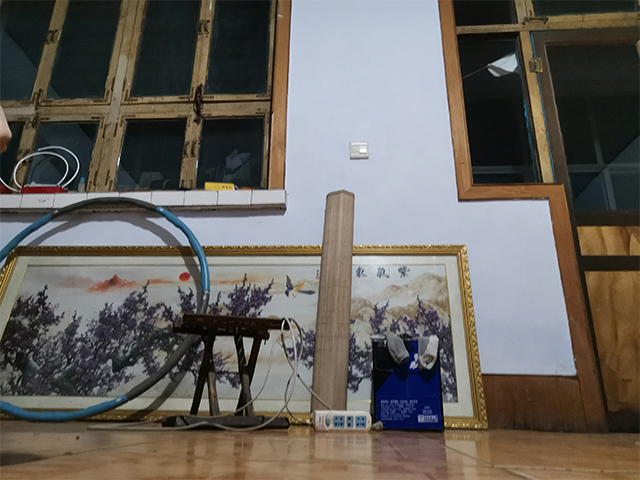stool: (160, 314, 293, 431)
wire: (283, 318, 388, 433)
